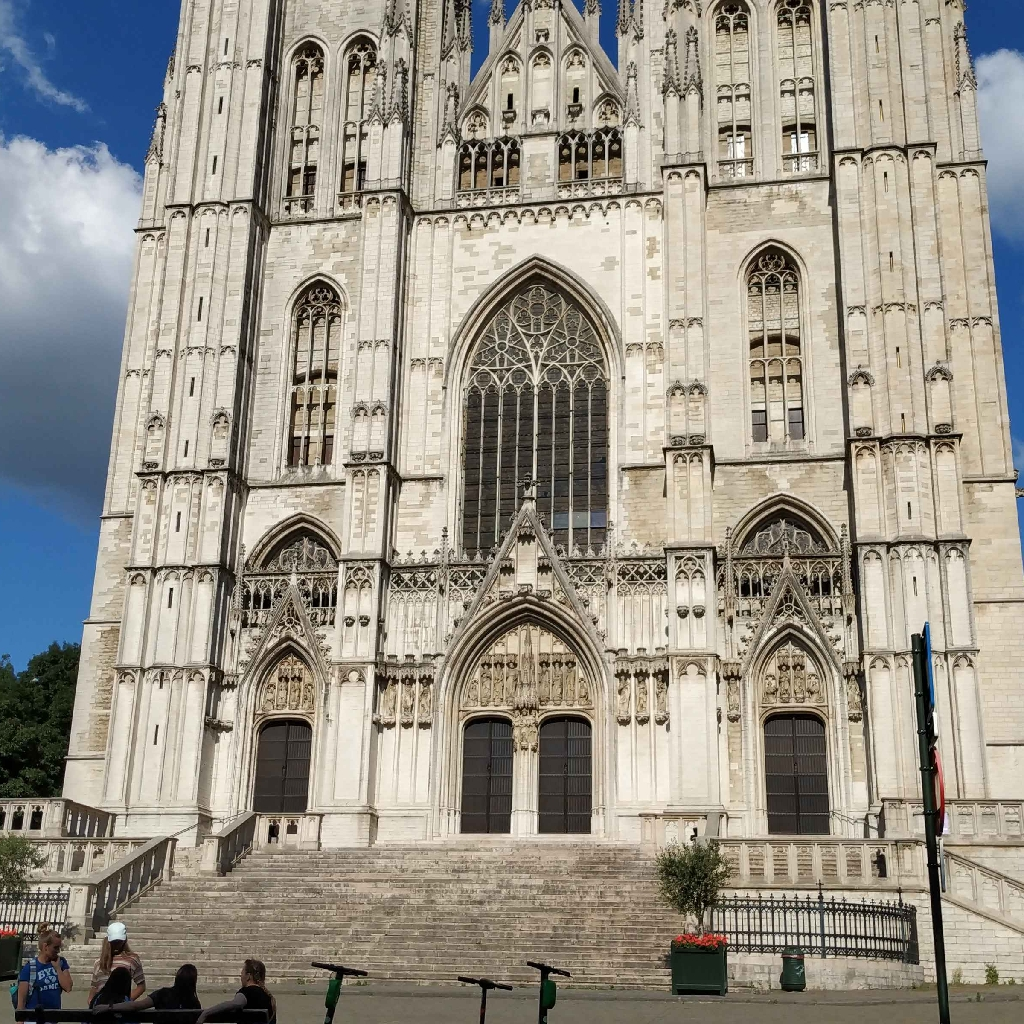arco-apuntado: (444, 243, 625, 375), (436, 594, 603, 704), (720, 495, 841, 559), (243, 510, 342, 570), (750, 620, 835, 688), (245, 631, 321, 699), (733, 233, 810, 294), (277, 267, 350, 320)
